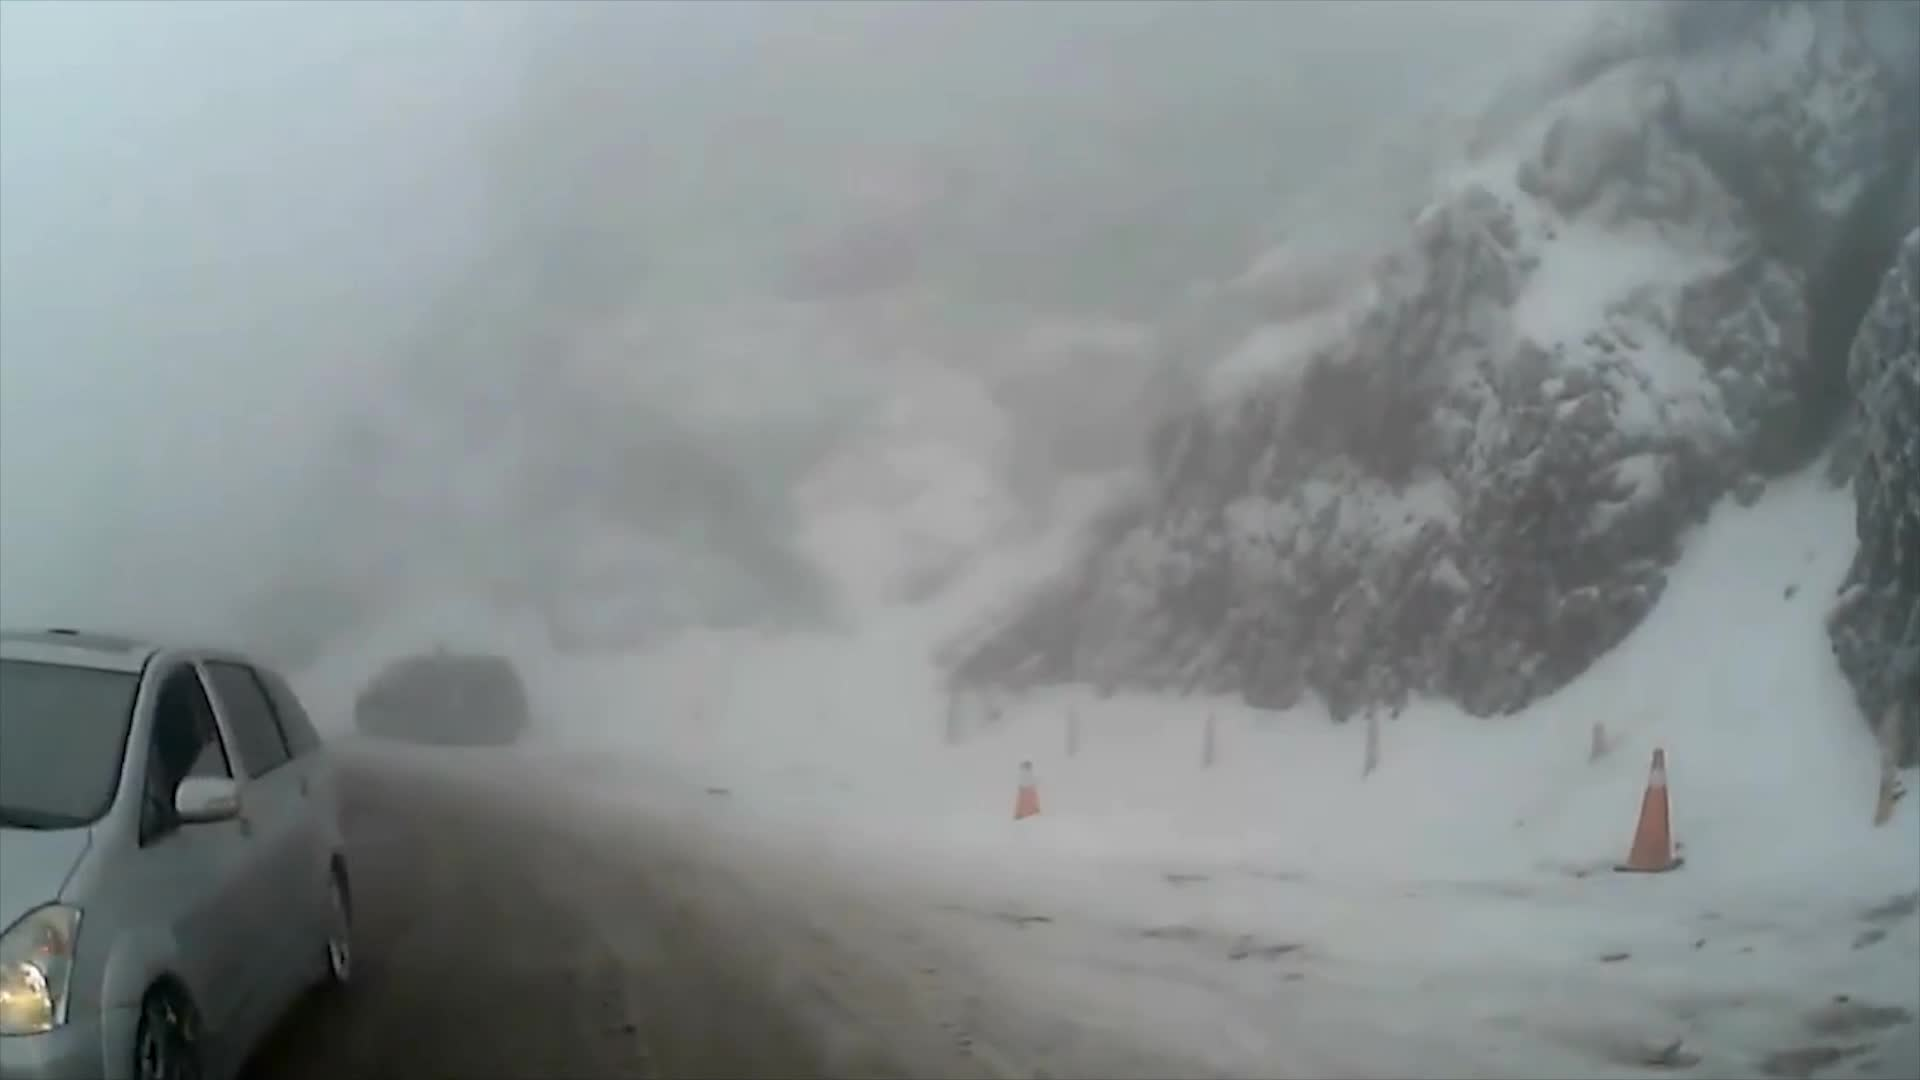vehicle: (0, 626, 361, 1080), (353, 651, 531, 750)
